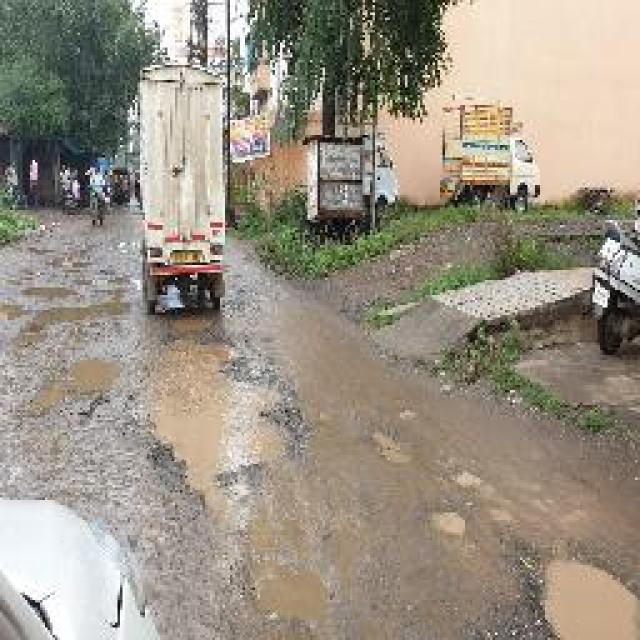puddle: (144, 344, 288, 491)
